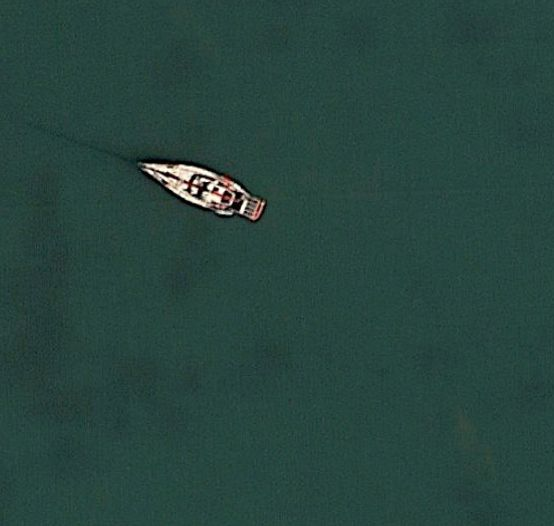boat: (127, 155, 269, 223)
